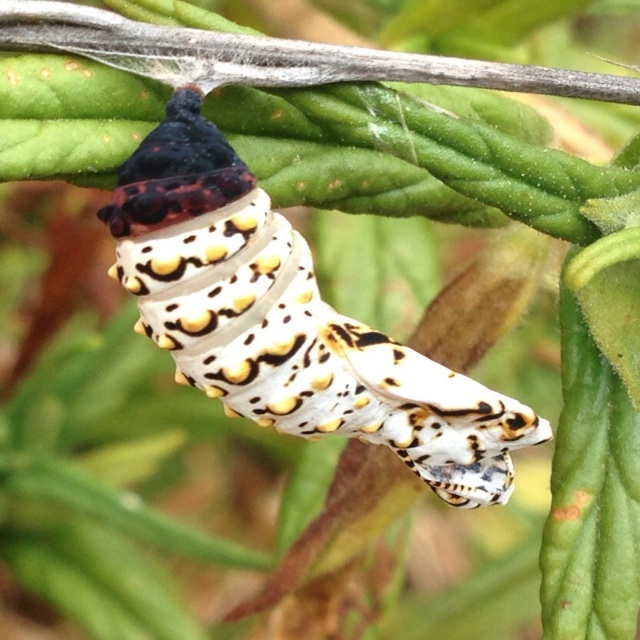Caterpillar: (97, 82, 554, 509)
